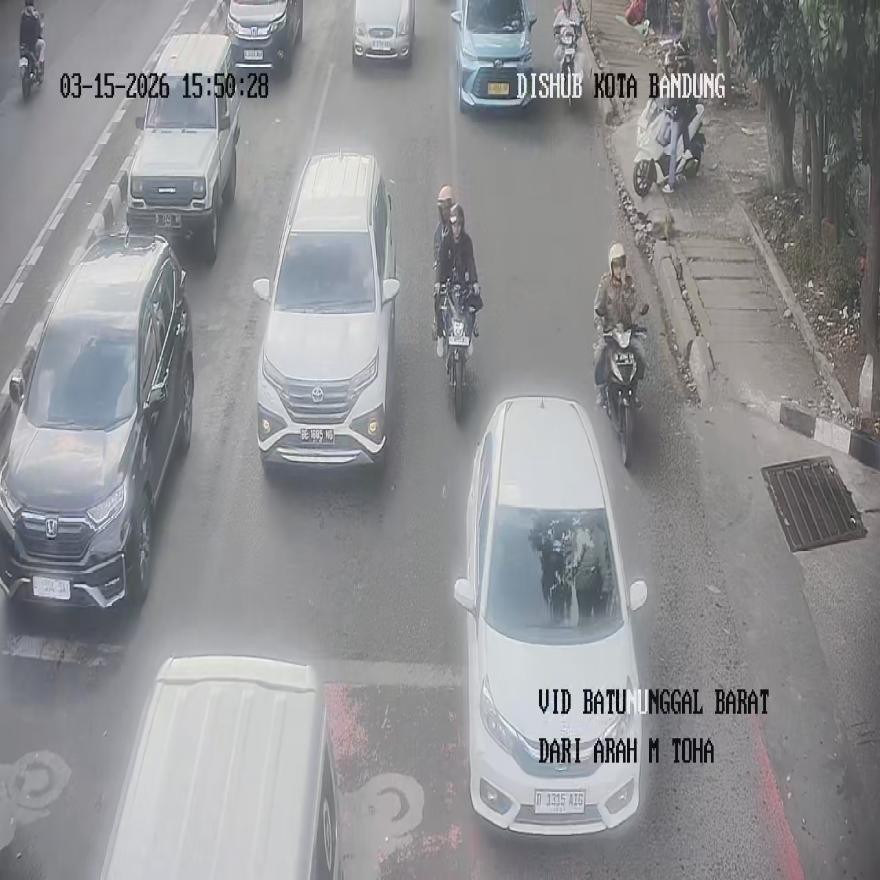Motor: (454, 396, 647, 835), (0, 230, 194, 610), (98, 655, 342, 879), (252, 152, 399, 470), (125, 33, 239, 260), (451, 0, 538, 110), (224, 0, 302, 79), (352, 0, 414, 66)
Truk: (601, 304, 648, 468), (633, 102, 705, 194), (439, 281, 481, 419), (19, 10, 44, 99), (555, 23, 577, 108)
